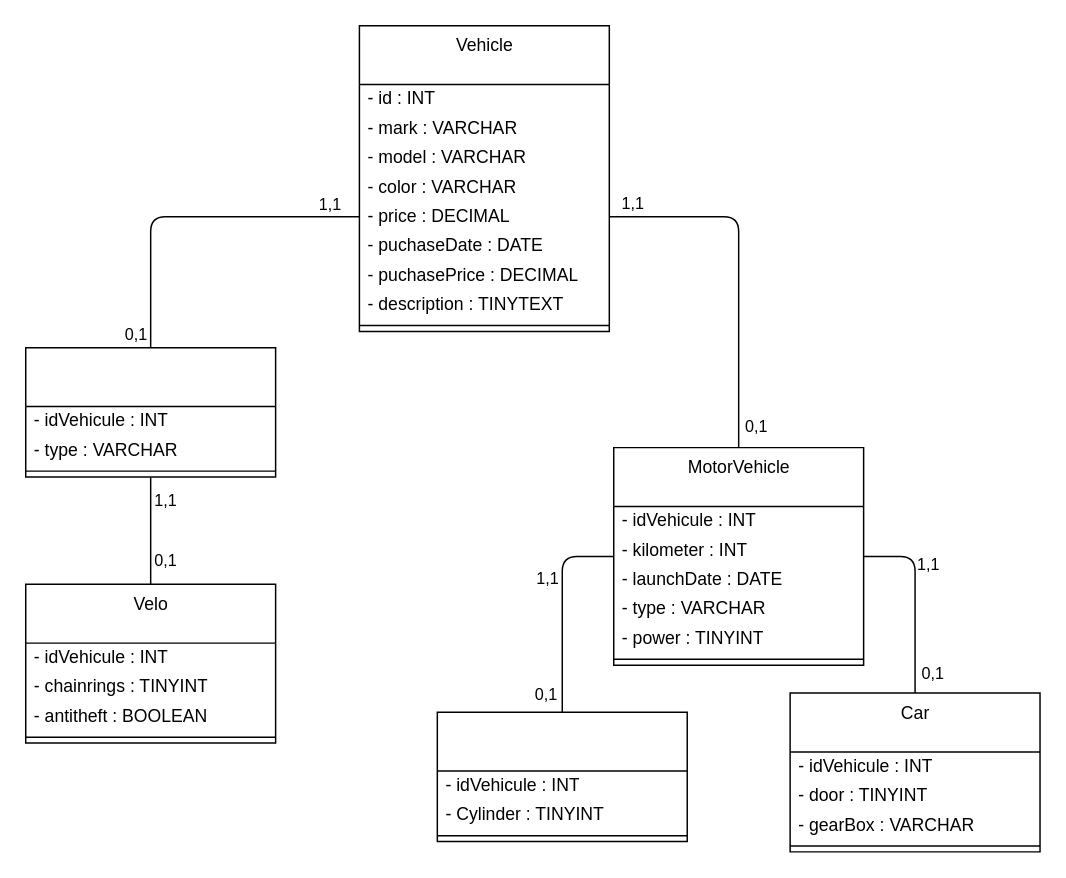
Some shapes in this 1066 by 878 pixel diagram are drawn without their labels. Each missing label, with the box of its shape:
Moto: (436, 711, 687, 842)
NonMotorVehicle: (24, 346, 276, 477)
